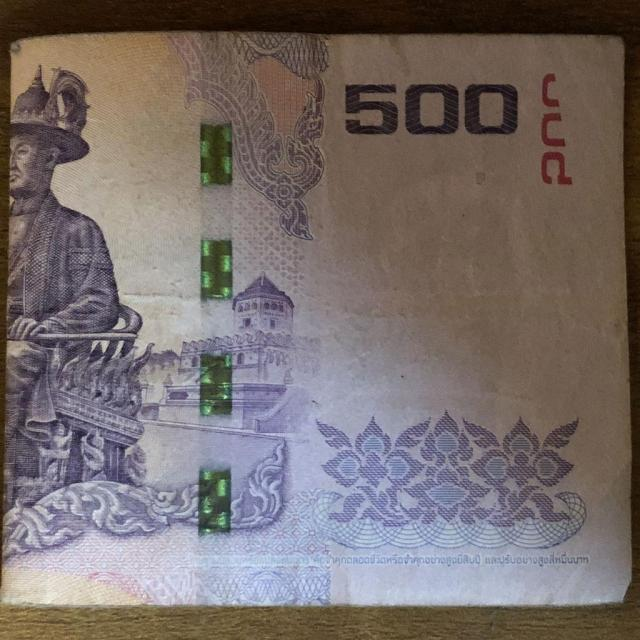THAI500: (0, 26, 636, 616)
